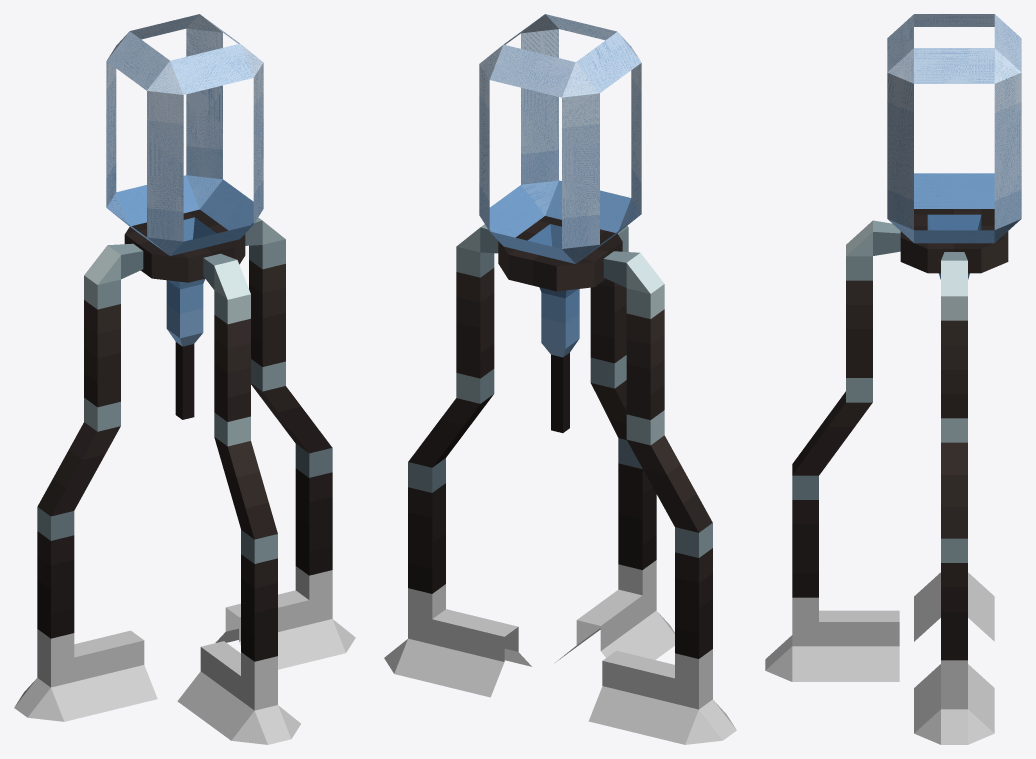
File: standing_retort.obj
The picture shows the model from 3 angles, left to right: view 1: azimuth 30°, elevation 25°; view 2: azimuth 150°, elevation 25°; view 3: azimuth 270°, elevation 25°; orthographic projection. The views are drawn at different scales.
Parts seen in each view (by area): view 1: STANDING_RETORT_RING_STAND_Cube.025, STANDING_RETORT_BULB_Cube.019; view 2: STANDING_RETORT_RING_STAND_Cube.025, STANDING_RETORT_BULB_Cube.019; view 3: STANDING_RETORT_RING_STAND_Cube.025, STANDING_RETORT_BULB_Cube.019.
Boxes of the visible parts, bbox=[...] form: STANDING_RETORT_RING_STAND_Cube.025: bbox=[14, 209, 355, 744]; STANDING_RETORT_BULB_Cube.019: bbox=[106, 14, 263, 419]; STANDING_RETORT_RING_STAND_Cube.025: bbox=[384, 216, 736, 744]; STANDING_RETORT_BULB_Cube.019: bbox=[479, 14, 641, 432]; STANDING_RETORT_RING_STAND_Cube.025: bbox=[765, 209, 1008, 744]; STANDING_RETORT_BULB_Cube.019: bbox=[887, 14, 1021, 279].
Size of the model in its own units: 0.8788 by 1.62 by 0.5956.
